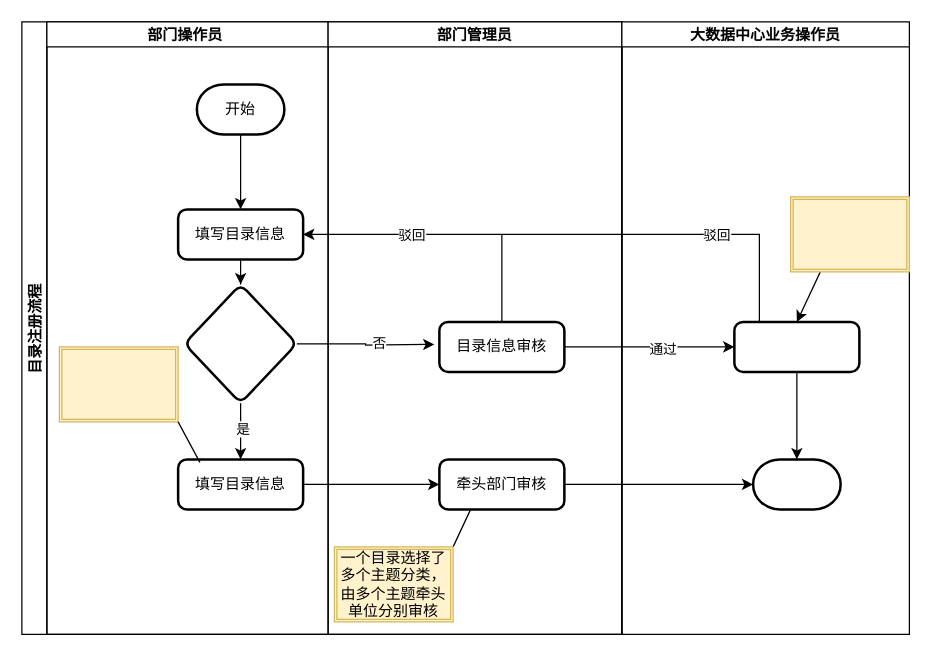
Image size: 931x656. Some labels were removed from this diagram. Each missing label, with the centre of its shape:
一个目录只能关联一个基础分类，可关联多个主题分类: point 118,384
是否关联基础、主题分类: point 240,343
目录质检/发布: point 796,346
目录质检通过后，目录在目录分类下展示: point 849,234
结束: point 796,484
